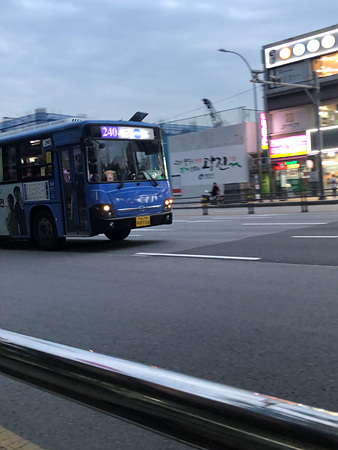bnum: (101, 125, 120, 138)
